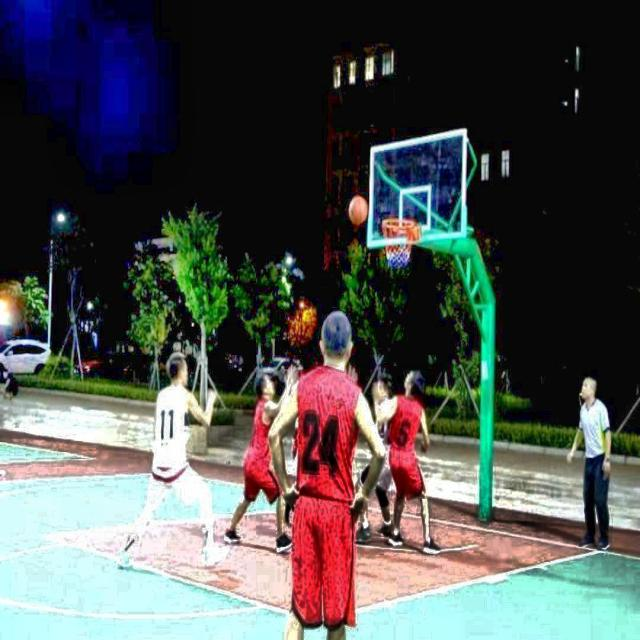rim: (381, 218, 416, 266)
